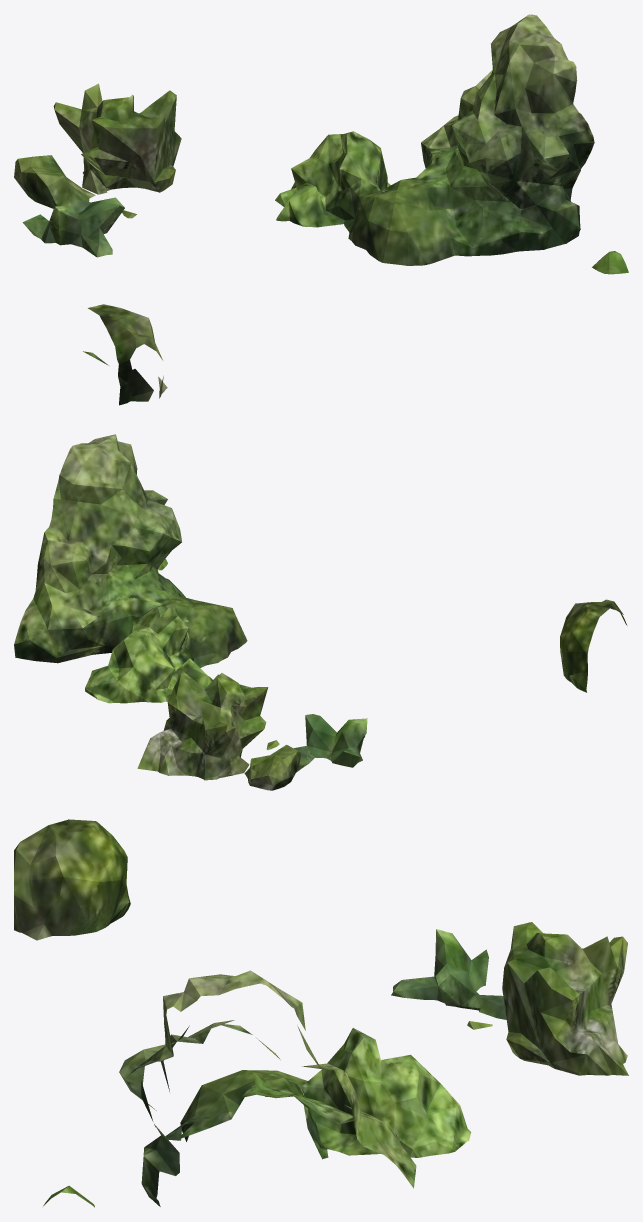
The picture shows the model from 3 angles, top to bottom: view 1: azimuth 30°, elevation 25°; view 2: azimuth 150°, elevation 25°; view 3: azimuth 270°, elevation 25°; orthographic projection. The views are drawn at different scales.
Size of the model in its own units: 26.11 by 9.13 by 22.73.
2 materials, 2 textured.
